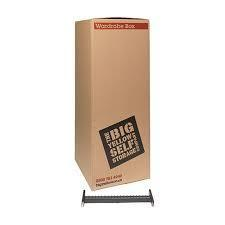box: (74, 15, 149, 191)
